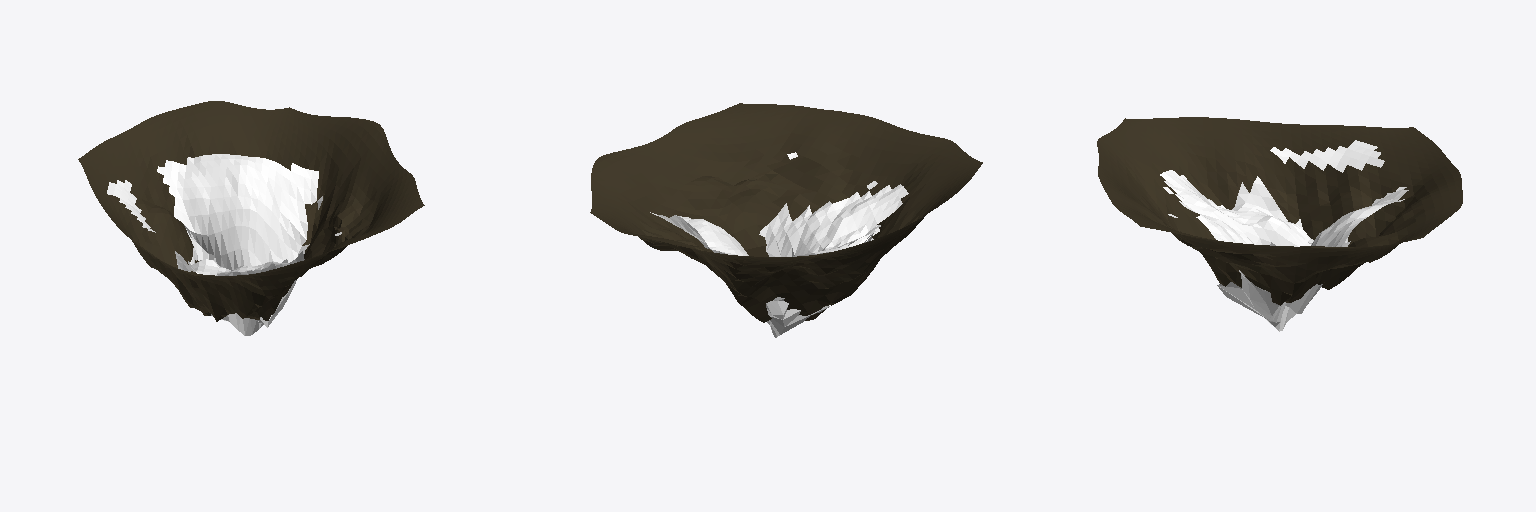
The model's file is montanha.obj.
The picture shows the model from 3 angles: view 1: azimuth 30°, elevation 25°; view 2: azimuth 150°, elevation 25°; view 3: azimuth 270°, elevation 25°; orthographic projection.
Visible parts, largest first — view 1: Landscape; view 2: Landscape; view 3: Landscape.
Boxes of the visible parts, x1=… form: Landscape: x1=78, y1=101, x2=424, y2=335; Landscape: x1=590, y1=103, x2=982, y2=337; Landscape: x1=1097, y1=117, x2=1462, y2=331.
Bounding box in the file's own units: 741 × 383 × 801.